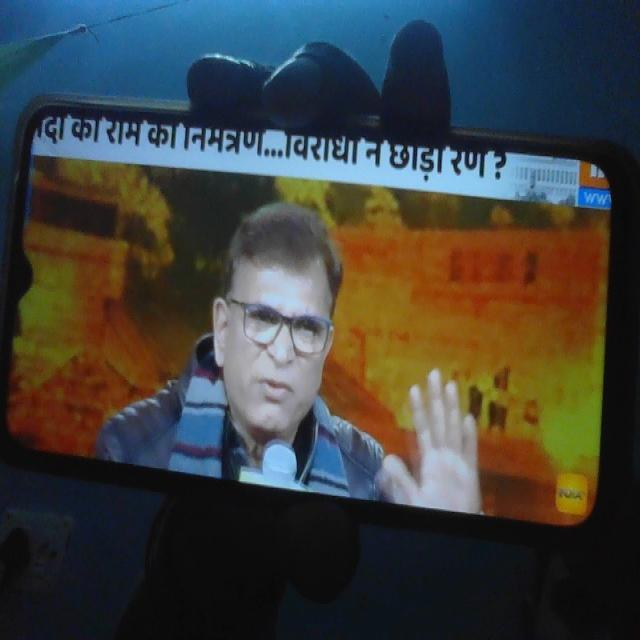fake: (212, 206, 341, 450)
